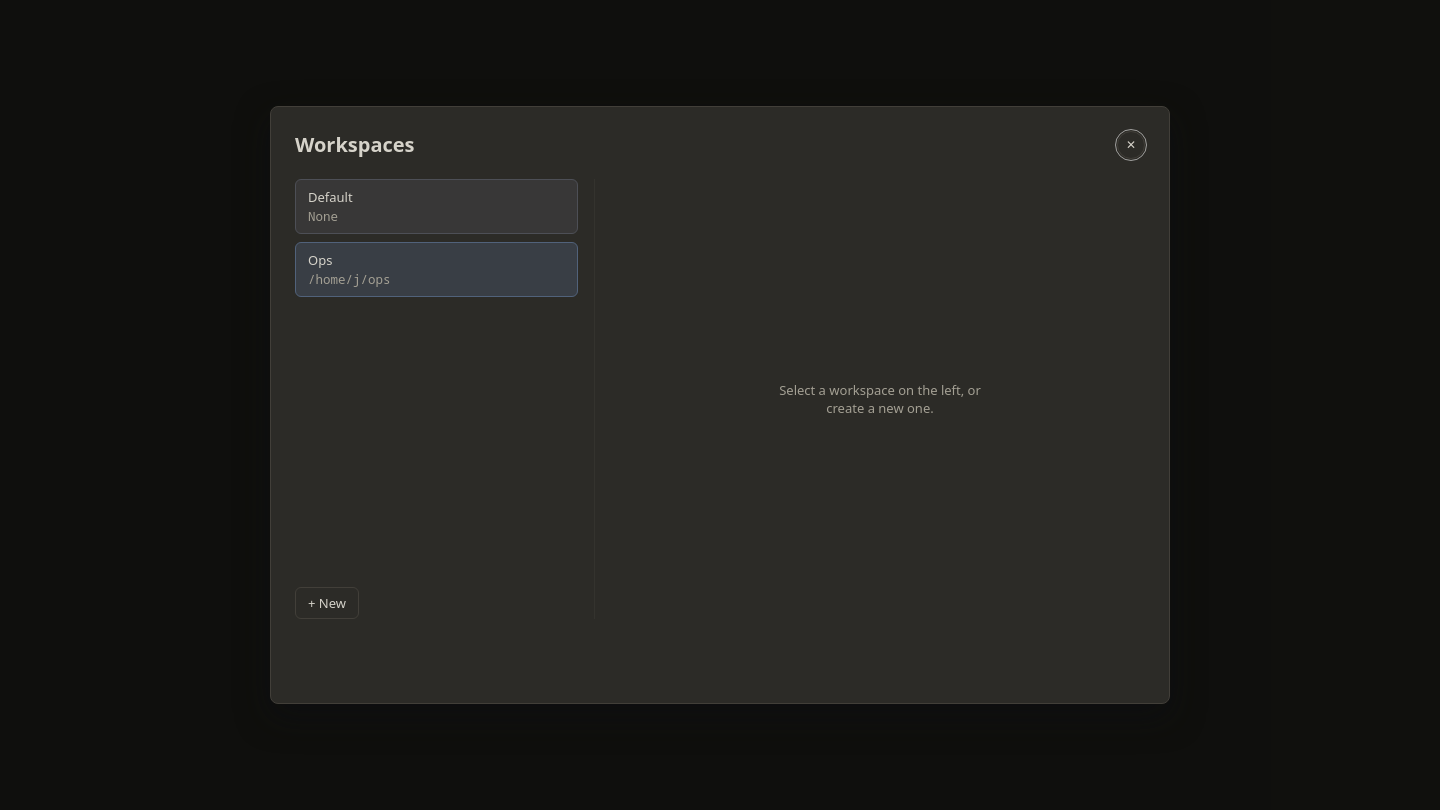
Test case: WorkspacesDialog — feedback › Choose… is busy while the picker is open; a failed picker says so
What coordinates should you click on to do the following:
click the button "Ops /home/j/ops"
I would click on:
 (349, 280)
Its box is [296, 243, 577, 296].
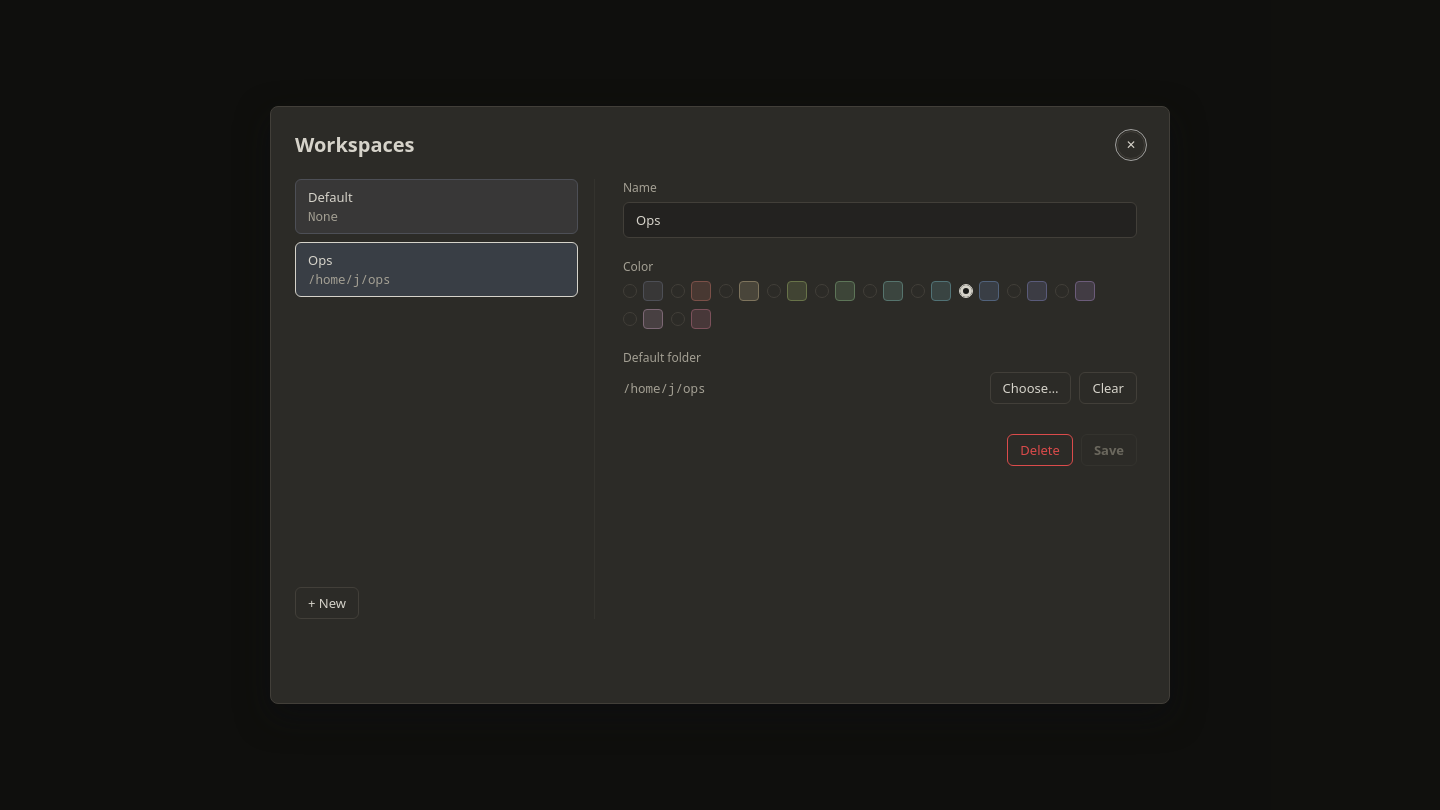
What coordinates should you click on to do the following:
click the button "Choose…"
I would click on:
 (1030, 388)
Its box is [990, 372, 1071, 404].
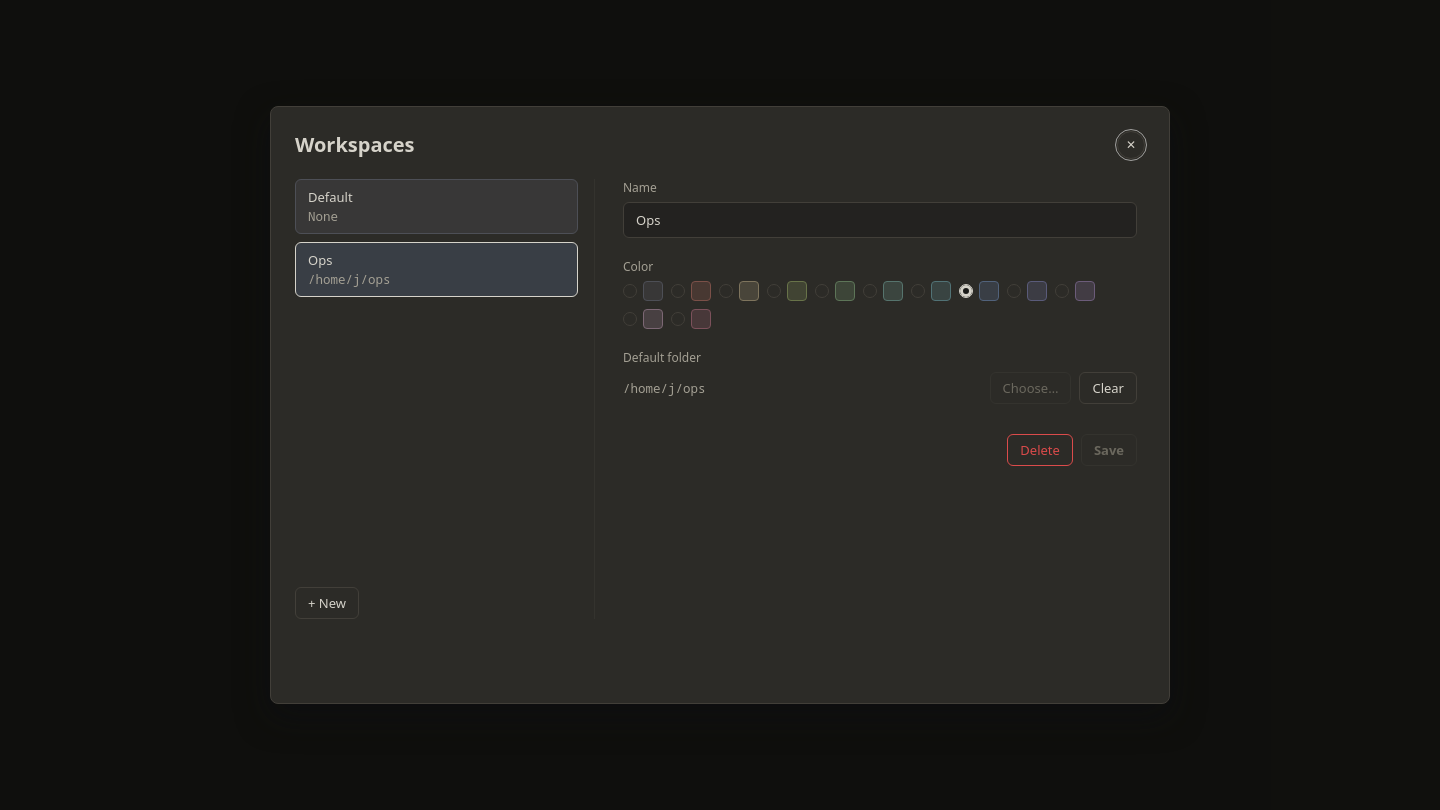
What coordinates should you click on to do the following:
click the button "Choose…"
I would click on:
 (1030, 388)
Its box is [990, 372, 1071, 404].
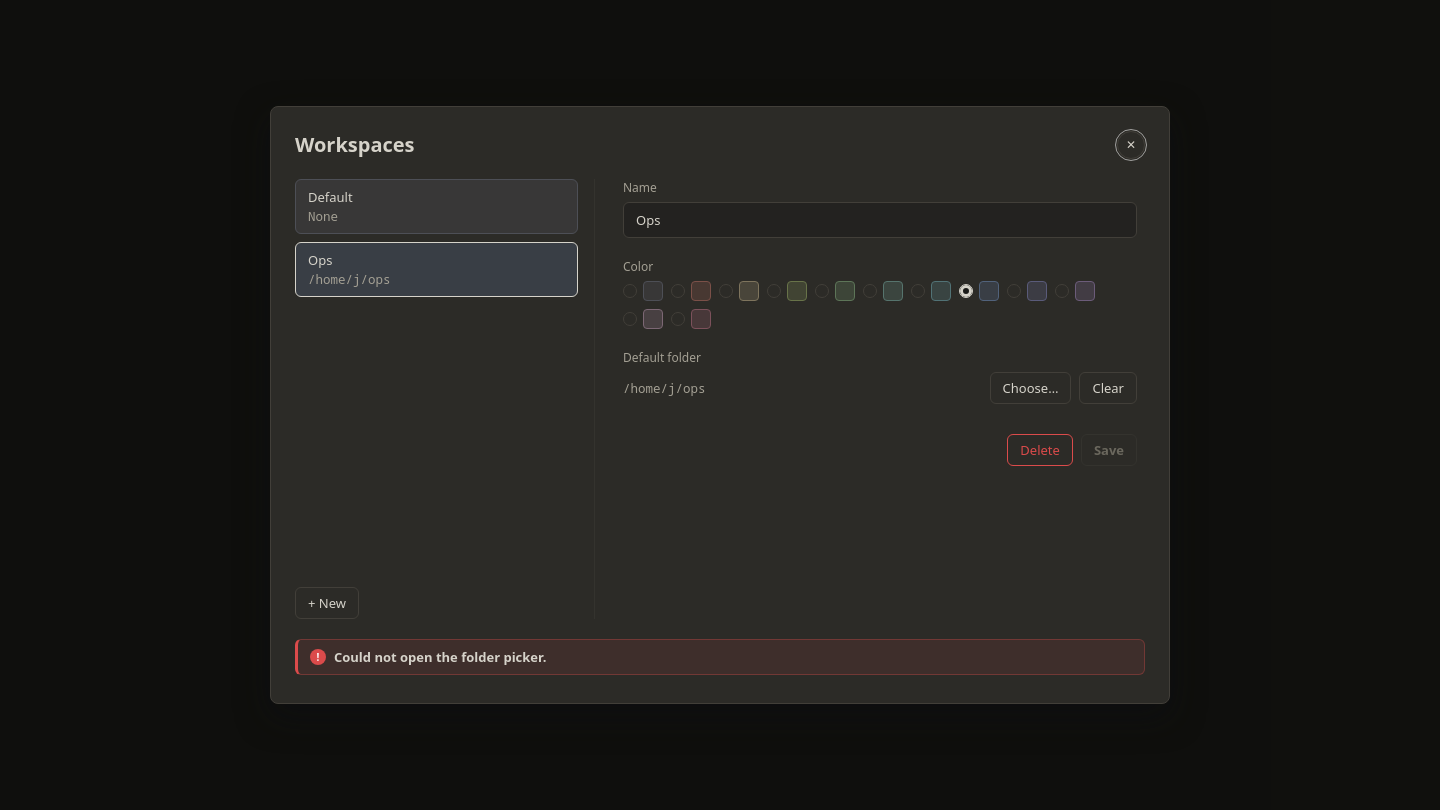
Expected: the message "Could not open the folder picker." is shown, [295, 639, 1145, 675]
